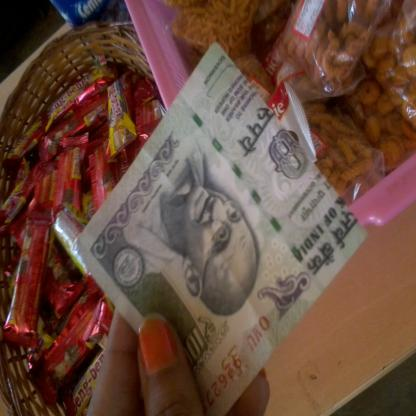Old100Front: (78, 40, 369, 416)
